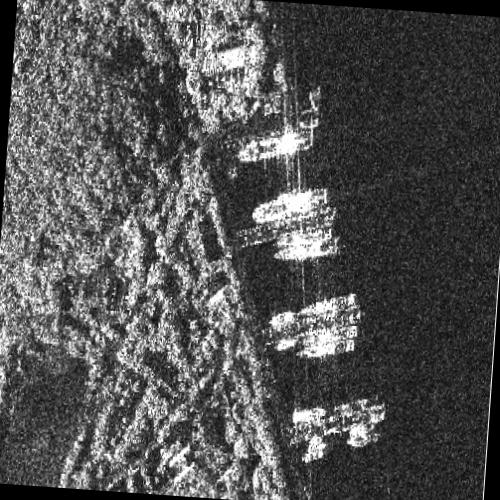ship: (251, 186, 327, 222), (236, 130, 303, 163), (274, 238, 340, 261), (295, 293, 356, 316), (294, 338, 354, 359), (301, 325, 358, 346), (275, 227, 332, 247), (268, 311, 297, 327), (274, 339, 296, 351)
